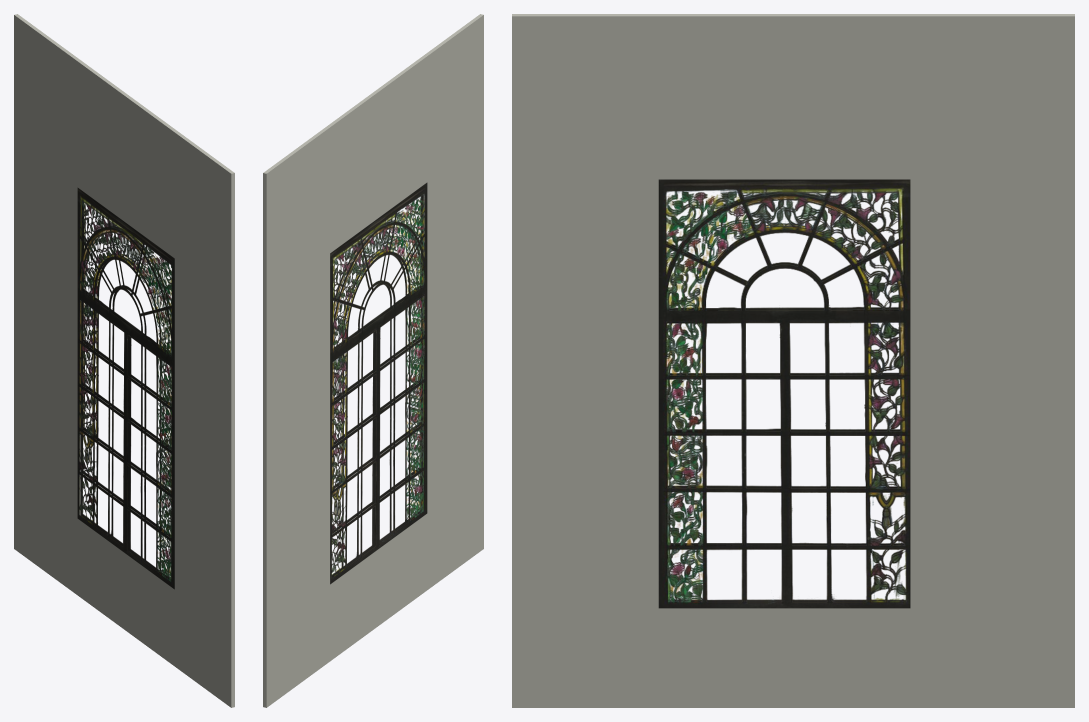
Rendered from A_axis_collider_7.glb.
The picture shows the model from 3 angles, left to right: view 1: azimuth 30°, elevation 25°; view 2: azimuth 150°, elevation 25°; view 3: azimuth 270°, elevation 25°; orthographic projection. The views are drawn at different scales.
Parts seen in each view (by area): view 1: A_axis_wall_collider.7; view 2: A_axis_wall_collider.7; view 3: A_axis_wall_collider.7.
Boxes of the visible parts, x1,y1,x2,y2 form: A_axis_wall_collider.7: [14, 14, 234, 707]; A_axis_wall_collider.7: [263, 14, 483, 707]; A_axis_wall_collider.7: [512, 14, 1074, 707].
Size of the model in its own units: 0.04 by 5.81 by 4.28.
Materials: 1 (1 with a texture image).
